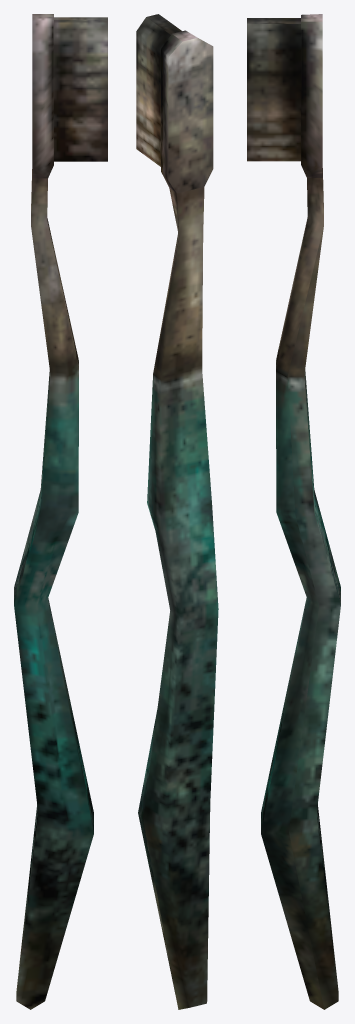
The model's file is bathRoom22.FBX.
The picture shows the model from 3 angles, left to right: view 1: azimuth 90°, elevation 25°; view 2: azimuth 210°, elevation 25°; view 3: azimuth 270°, elevation 25°; orthographic projection.
Parts seen in each view (by area): view 1: SM_Bathroom22; view 2: SM_Bathroom22; view 3: SM_Bathroom22.
Boxes of the visible parts, bbox=[...] form: SM_Bathroom22: bbox=[14, 14, 107, 1009]; SM_Bathroom22: bbox=[136, 14, 218, 1009]; SM_Bathroom22: bbox=[247, 14, 340, 1009].
Size of the model in its own units: 1.69 by 25.32 by 2.19.
1 material, 1 textured.
